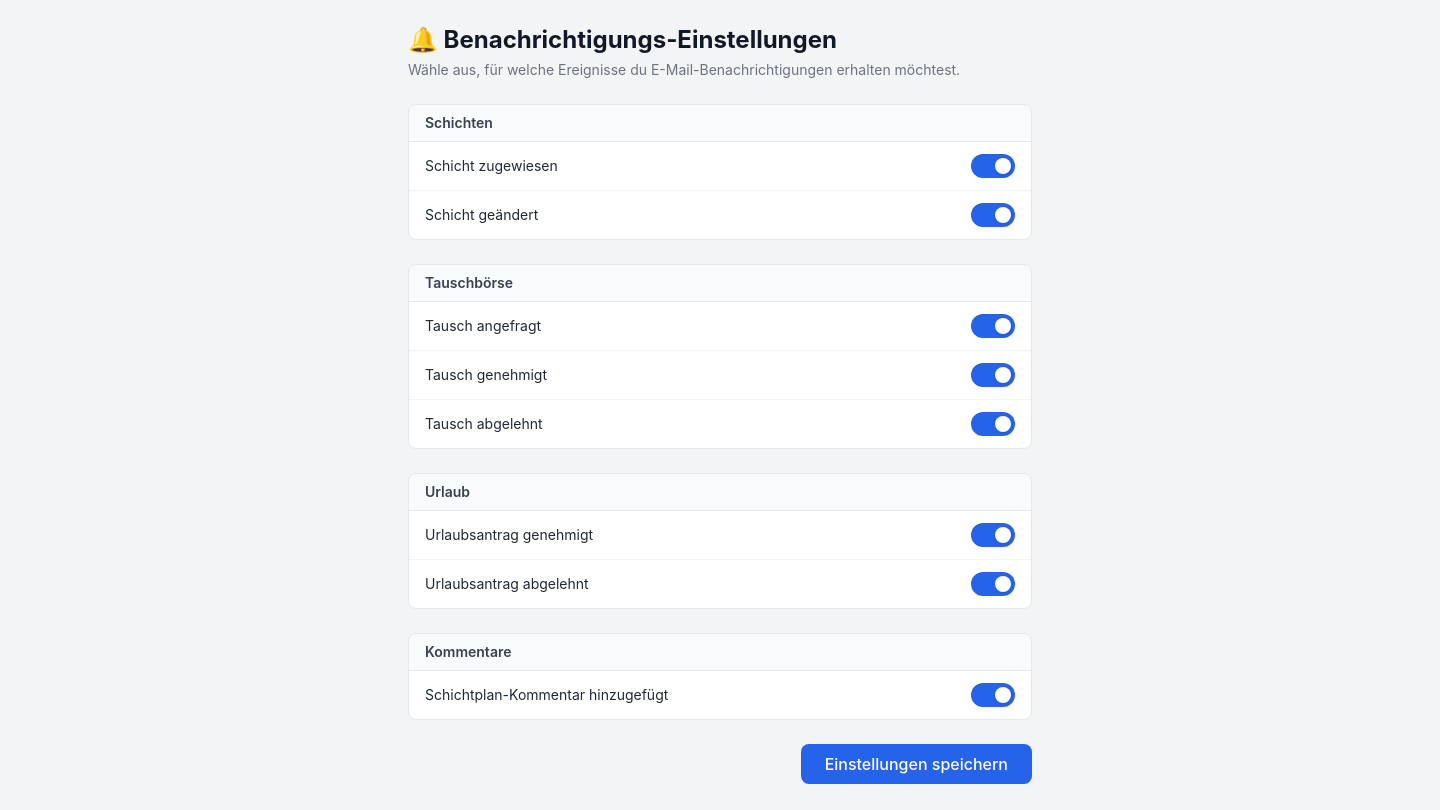
Test: NotificationSettings › shows success toast after save
Click the button "Einstellungen speichern". click: (916, 764)
box: [801,744,1032,784]
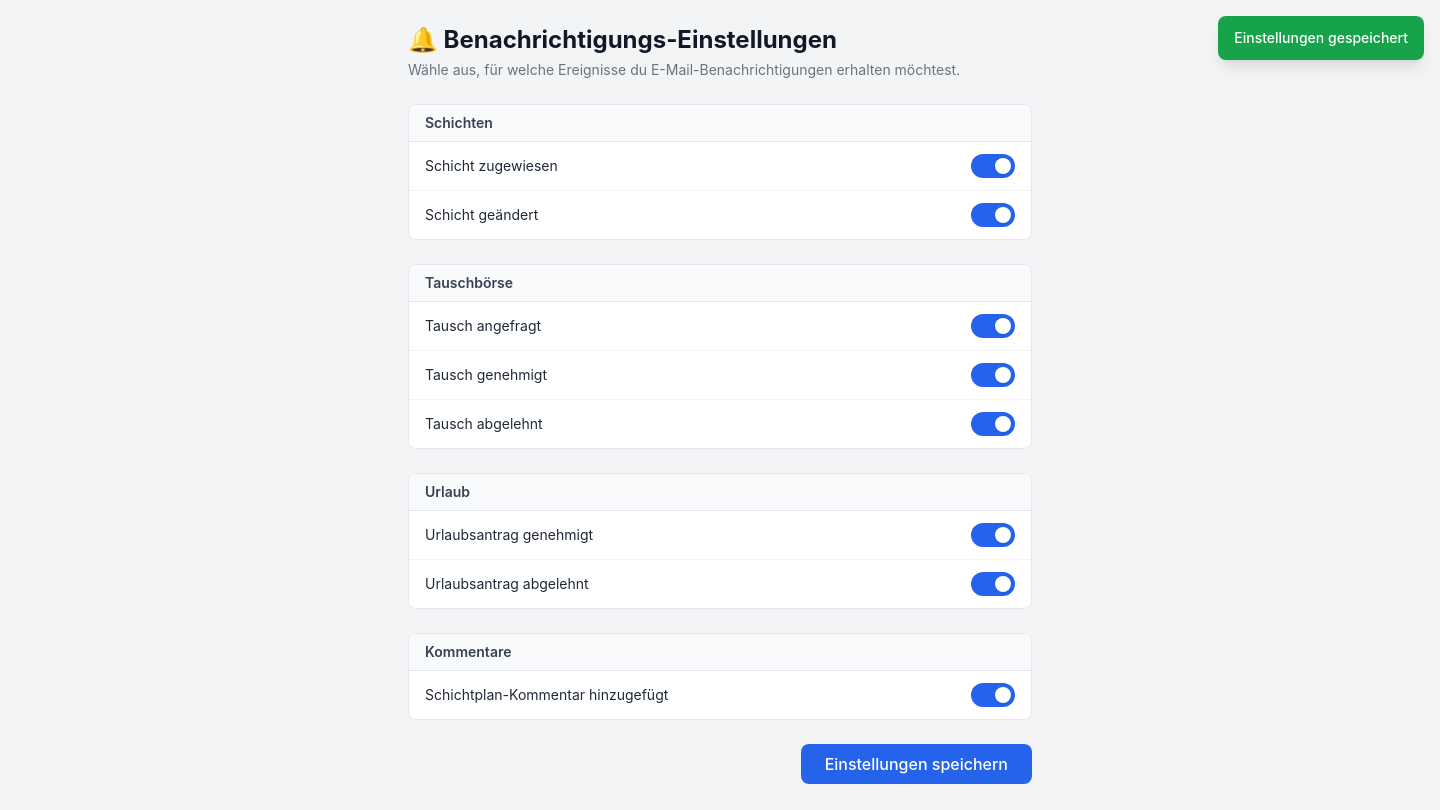
Expected: the text "Einstellungen gespeichert" is shown, [1218,16,1424,60]
